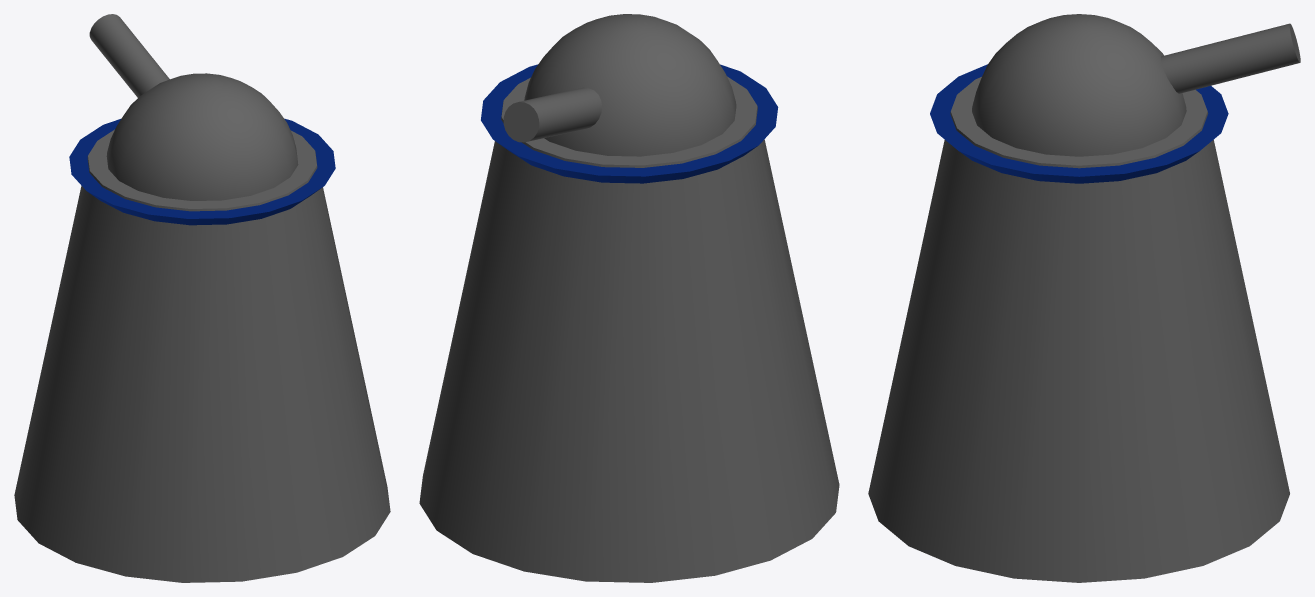
File: Turret.fbx
The picture shows the model from 3 angles, left to right: view 1: azimuth 30°, elevation 25°; view 2: azimuth 150°, elevation 25°; view 3: azimuth 270°, elevation 25°; orthographic projection. The views are drawn at different scales.
Visible parts, largest first — view 1: pCylinder1, pSphere1, pCylinder3, pCylinder2; view 2: pCylinder1, pSphere1, pCylinder3, pCylinder2; view 3: pCylinder1, pSphere1, pCylinder3, pCylinder2.
Part boxes in pixels (<box>): pCylinder1: <box>14,129,390,582</box>; pSphere1: <box>106,73,298,200</box>; pCylinder3: <box>69,118,335,225</box>; pCylinder2: <box>89,14,169,97</box>; pCylinder1: <box>419,76,839,582</box>; pSphere1: <box>524,14,736,156</box>; pCylinder3: <box>481,64,778,183</box>; pCylinder2: <box>503,87,602,142</box>; pCylinder1: <box>868,77,1289,582</box>; pSphere1: <box>972,14,1186,156</box>; pCylinder3: <box>930,64,1228,183</box>; pCylinder2: <box>1161,23,1300,93</box>.
Size of the model in its own units: 2 by 2.46 by 2.05.
